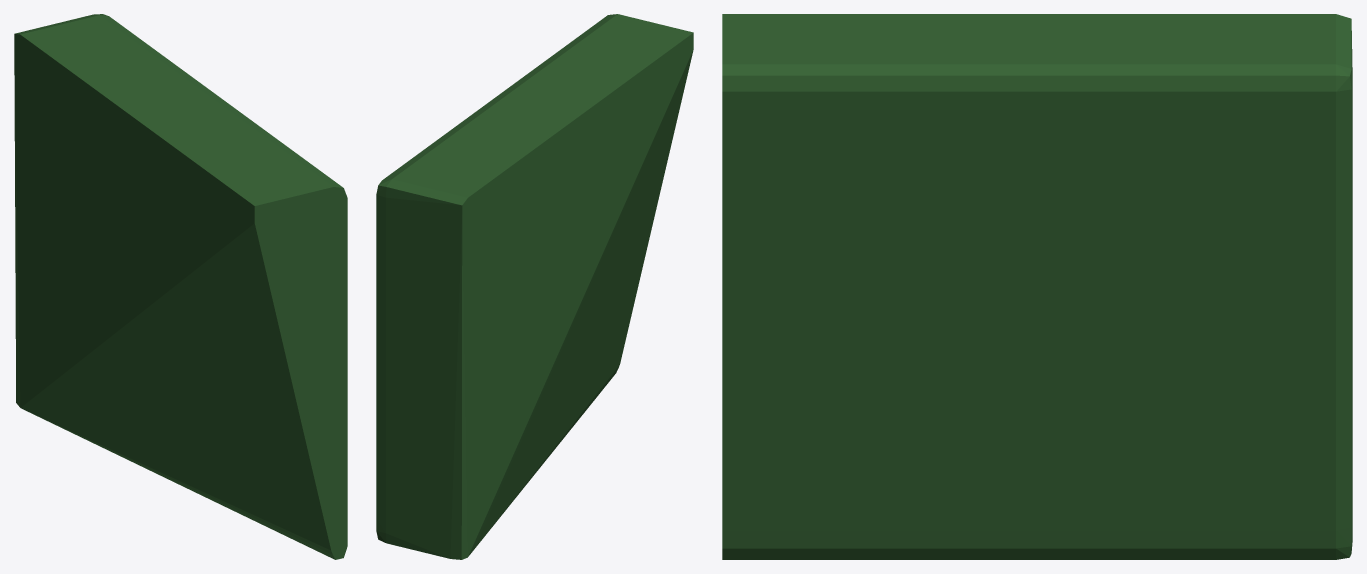
Rendered from right_hip_yaw_link_part_19.obj.
3 views of the same model, side by side, from view 1: azimuth 30°, elevation 25°; view 2: azimuth 150°, elevation 25°; view 3: azimuth 270°, elevation 25° (orthographic). The views are drawn at different scales.
Size of the model in its own units: 0.00858 by 0.0333 by 0.0385.
